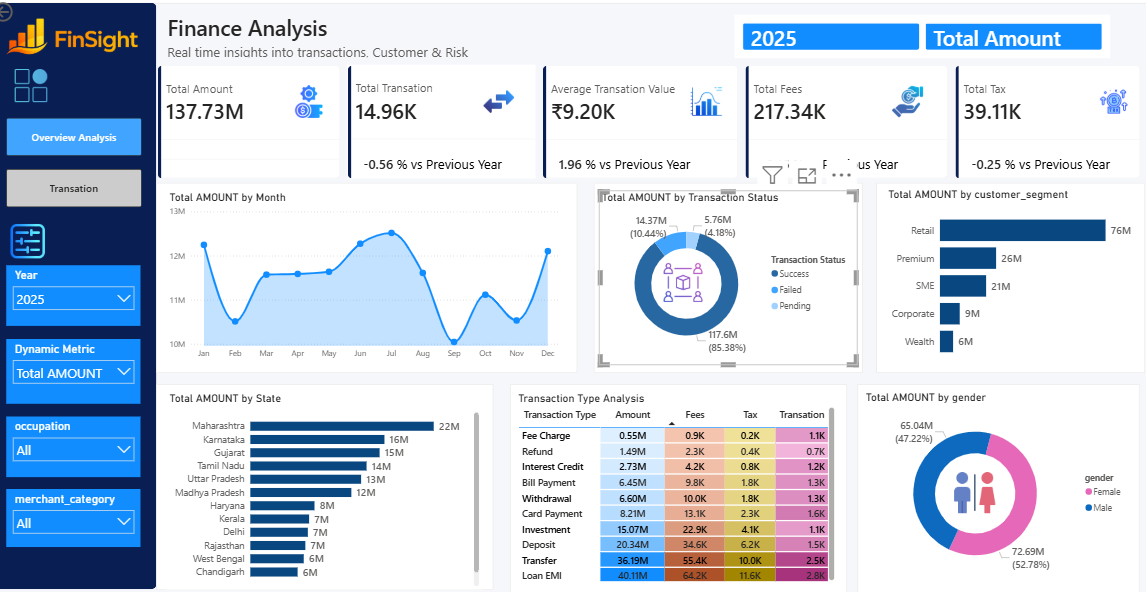

This screenshot's page, from the dashboard's own definition file:
{"tool":"powerbi","page":{"name":"Overview Analysis","canvas":[1800,950],"ordinal":0},"visuals":[{"type":"shape","box":[0,6.1,1800.4,927.5],"z":0},{"type":"shape","box":[4.1,6.1,253.2,905.3],"z":1000},{"type":"image","box":[18.3,14.2,223.8,89.5],"z":2000},{"type":"cardVisual","fields":{"Data":["finance_transactions (1).Dashboard Title"]},"box":[257.2,20.3,848.6,77],"z":3000},{"type":"cardVisual","fields":{"Data":["finance_transactions (1).Total AMOUNT"]},"box":[253.2,97.2,293.7,186.3],"z":4000},{"type":"slicer","fields":{"Values":["Calender Table.Year"]},"box":[24.4,410.9,207.5,93.6],"z":5000},{"type":"cardVisual","fields":{"Data":["finance_transactions (1).Total Transation"]},"box":[546.8,97.2,301.8,186.3],"z":6000},{"type":"cardVisual","fields":{"Data":["finance_transactions (1).Average Transation Value"]},"box":[846.5,97.2,313.9,186.3],"z":7000},{"type":"cardVisual","fields":{"Data":["finance_transactions (1).Total Fees"]},"box":[1160.4,97.2,324,186.3],"z":8000},{"type":"cardVisual","fields":{"Data":["finance_transactions (1).Total Tax"]},"box":[1484.5,97.2,297.7,186.3],"z":9000},{"type":"slicer","fields":{"Values":["customers.occupation"]},"box":[24.4,644.9,207.5,93.6],"z":10000},{"type":"slicer","fields":{"Values":["finance_transactions (1).merchant_category"]},"box":[24.4,756.8,207.5,89.5],"z":11000},{"type":"image","box":[467.8,133.7,50.6,50.6],"z":12000},{"type":"image","box":[760.3,133.1,50.2,50.2],"z":13000},{"type":"image","box":[1391.3,133.1,50.2,50.2],"z":14000},{"type":"image","box":[1080.6,133.1,50.2,50.2],"z":15000},{"type":"image","box":[1709.7,133.1,50.2,50.2],"z":16000},{"type":"slicer","fields":{"Values":["Dynamic Metric.Dynamic Metric"]},"box":[24.4,524.9,207.5,99.7],"z":17000},{"type":"shape","box":[257.2,283.5,650.1,293.7],"z":18000},{"type":"areaChart","fields":{"Y":["finance_transactions (1).Total AMOUNT"],"Category":["Calender Table.Month"]},"box":[271.4,295.7,613.6,269.4],"z":19000},{"type":"cardVisual","fields":{"Data":["finance_transactions (1).Selected Year","finance_transactions (1).Selected Dyanamic Measure"]},"box":[1144.1,19.8,590.9,77.3],"z":20000},{"type":"shape","box":[931.6,283.5,415.2,293.7],"z":21000},{"type":"donutChart","fields":{"Y":["finance_transactions (1).Total AMOUNT"],"Category":["finance_transactions (1).transaction_status"]},"box":[939.7,295.7,399,269.4],"z":22000},{"type":"shape","box":[1369,283.5,415.2,293.7],"z":23000},{"type":"barChart","fields":{"Y":["finance_transactions (1).Total AMOUNT"],"Category":["customers.customer_segment"]},"box":[1381.2,291.6,392.9,277.5],"z":24000},{"type":"shape","box":[257.2,593.4,520.5,318],"z":25000},{"type":"barChart","fields":{"Y":["finance_transactions (1).Total AMOUNT"],"Category":["customers.state"]},"box":[271.4,605.5,488.1,305.8],"z":26000},{"type":"shape","box":[802,593.4,520.5,328.1],"z":27000},{"type":"tableEx","title":"Transaction Type Analysis","fields":{"Values":["finance_transactions (1).transaction_type","finance_transactions (1).Total AMOUNT","finance_transactions (1).Total Fees","finance_transactions (1).Total Tax","finance_transactions (1).Total Transation"]},"box":[810.1,605.5,498.2,297.7],"z":28000},{"type":"actionButton","box":[0,0,100,40],"z":29000},{"type":"shape","box":[1338.7,593.4,435.4,328.1],"z":30000},{"type":"donutChart","fields":{"Y":["finance_transactions (1).Total AMOUNT"],"Category":["customers.gender"]},"box":[1346.8,603.5,413.1,299.7],"z":31000},{"type":"image","box":[1034.9,405,70.9,64.8],"z":32000},{"type":"image","box":[1484.5,721,72.9,81],"z":33000},{"type":"pageNavigator","box":[24.4,183.1,209.5,138.3],"z":34000},{"type":"image","box":[18.3,343.8,81.4,61],"z":35000},{"type":"image","box":[30.5,107.8,65.1,50.9],"z":36000}]}

Visuals, with their boxes on the page's 1800x950 design canvas (x1, y1, x2, y2). These are canvas units, not pixel positions in the 1146x592 screenshot, which may show the page scaled, cropped or inside an application window:
shape: [0,6,1800,934]
shape: [4,6,257,911]
image: [18,14,242,104]
cardVisual - finance_transactions (1).Dashboard Title: [257,20,1106,97]
cardVisual - finance_transactions (1).Total AMOUNT: [253,97,547,284]
slicer - Calender Table.Year: [24,411,232,504]
cardVisual - finance_transactions (1).Total Transation: [547,97,849,284]
cardVisual - finance_transactions (1).Average Transation Value: [846,97,1160,284]
cardVisual - finance_transactions (1).Total Fees: [1160,97,1484,284]
cardVisual - finance_transactions (1).Total Tax: [1484,97,1782,284]
slicer - customers.occupation: [24,645,232,738]
slicer - finance_transactions (1).merchant_category: [24,757,232,846]
image: [468,134,518,184]
image: [760,133,810,183]
image: [1391,133,1442,183]
image: [1081,133,1131,183]
image: [1710,133,1760,183]
slicer - Dynamic Metric.Dynamic Metric: [24,525,232,625]
shape: [257,284,907,577]
areaChart - finance_transactions (1).Total AMOUNT x Calender Table.Month: [271,296,885,565]
cardVisual - finance_transactions (1).Selected Year x finance_transactions (1).Selected Dyanamic Measure: [1144,20,1735,97]
shape: [932,284,1347,577]
donutChart - finance_transactions (1).Total AMOUNT x finance_transactions (1).transaction_status: [940,296,1339,565]
shape: [1369,284,1784,577]
barChart - finance_transactions (1).Total AMOUNT x customers.customer_segment: [1381,292,1774,569]
shape: [257,593,778,911]
barChart - finance_transactions (1).Total AMOUNT x customers.state: [271,606,760,911]
shape: [802,593,1322,922]
"Transaction Type Analysis" tableEx: [810,606,1308,903]
actionButton: [0,0,100,40]
shape: [1339,593,1774,922]
donutChart - finance_transactions (1).Total AMOUNT x customers.gender: [1347,604,1760,903]
image: [1035,405,1106,470]
image: [1484,721,1557,802]
pageNavigator: [24,183,234,321]
image: [18,344,100,405]
image: [30,108,96,159]
